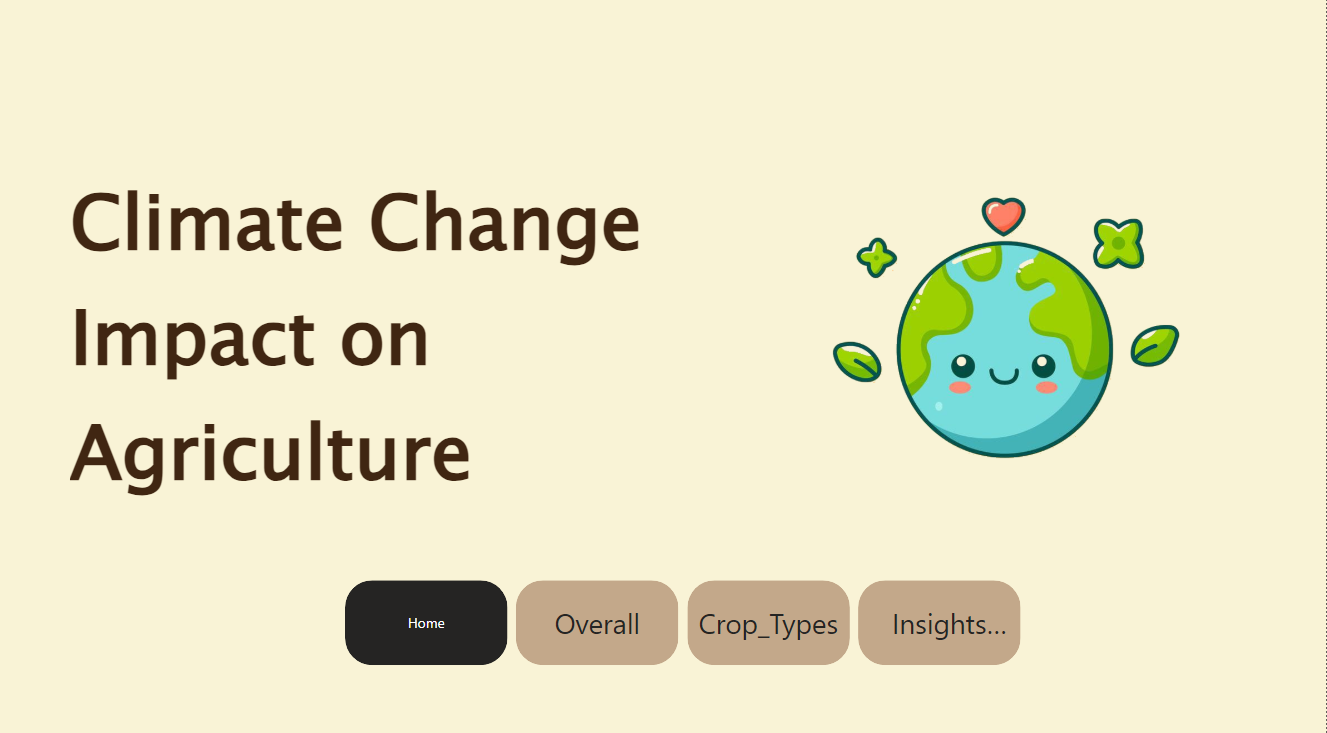

This screenshot's page, from the dashboard's own definition file:
{"tool":"powerbi","page":{"name":"Home","canvas":[1280,720],"ordinal":0},"visuals":[{"type":"textbox","box":[63.1,131.7,706.7,480.3],"z":0},{"type":"image","box":[744.4,131.5,458.4,405.4],"z":1000},{"type":"pageNavigator","box":[333,570.6,655.1,82],"z":2000}]}

Visuals, with their boxes in screenshot pixels (x1, y1, x2, y2), scaled from the page's 1280x720 canvas onto the 1327x733 screenshot:
textbox: x1=65 y1=134 x2=798 y2=623
image: x1=772 y1=134 x2=1247 y2=547
pageNavigator: x1=345 y1=581 x2=1024 y2=664
